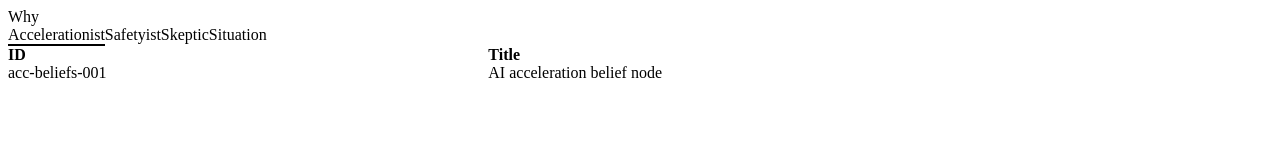
Test: GroundingSection (t/4591) › switches tabs when clicked
The image size is (1280, 160).
What coordinates should you click on to do the following:
click the tab "Safetyist"
I would click on:
 (133, 36)
Its box is x1=105 y1=26 x2=161 y2=46.
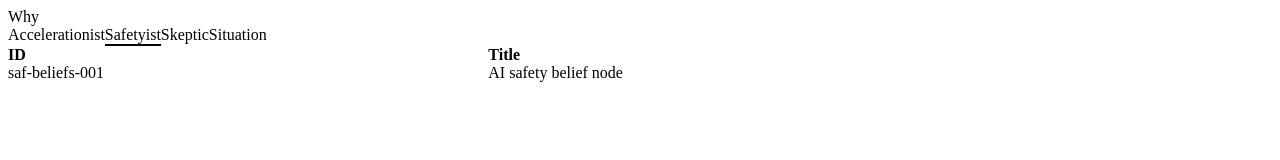
Expected: the text "AI safety belief node" is shown, x1=488 y1=64 x2=1272 y2=82
